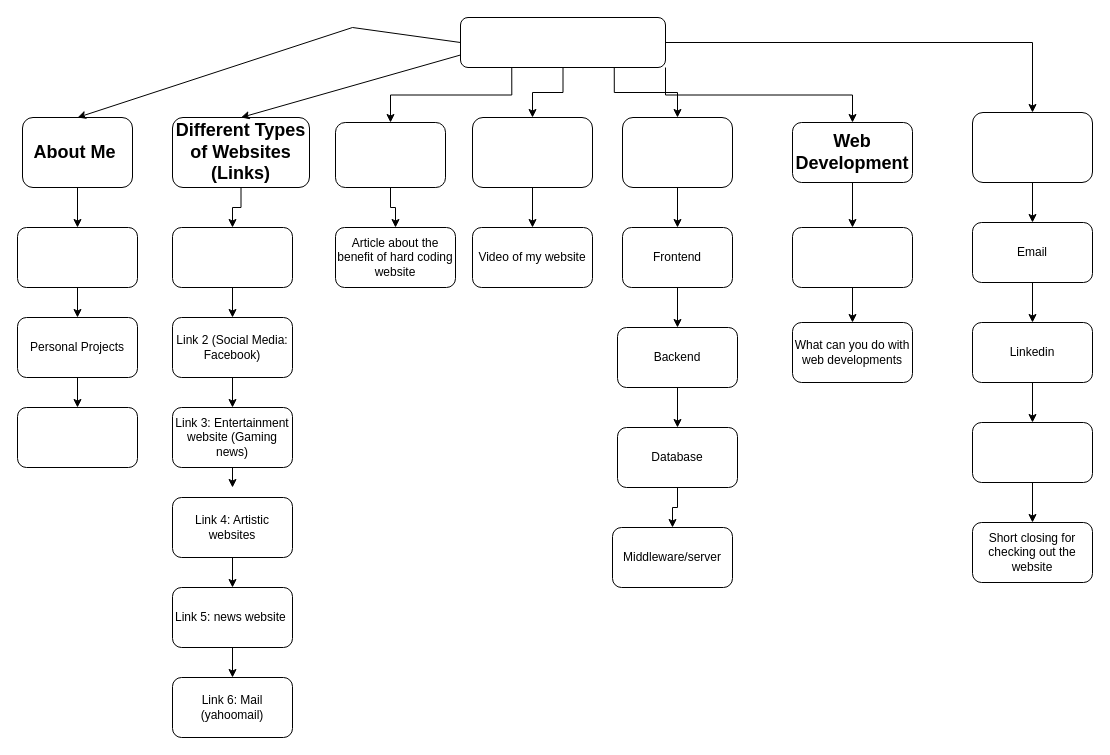
The diagram is 1110 pixels wide and 755 high, and some of its shapes have lost their labels. The shapes that lost their labels are listed below. From the top down, each one's centre as x and y in pixels, then its label:
At (x=563, y=42): "Home Page".
At (x=390, y=155): "Article".
At (x=532, y=152): "Breakdown of my Website".
At (x=677, y=152): "Structure of Website (Build your Own website 101)".
At (x=1032, y=147): "Contact".
At (x=77, y=257): "My Major/Education".
At (x=232, y=257): "Link 1 (Personal website)".
At (x=852, y=257): "Introduce web developers".
At (x=77, y=437): "Talk about my Interest/Career goal".
At (x=1032, y=452): "Github".
